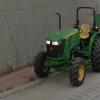Tractor: (36, 12, 100, 91)
